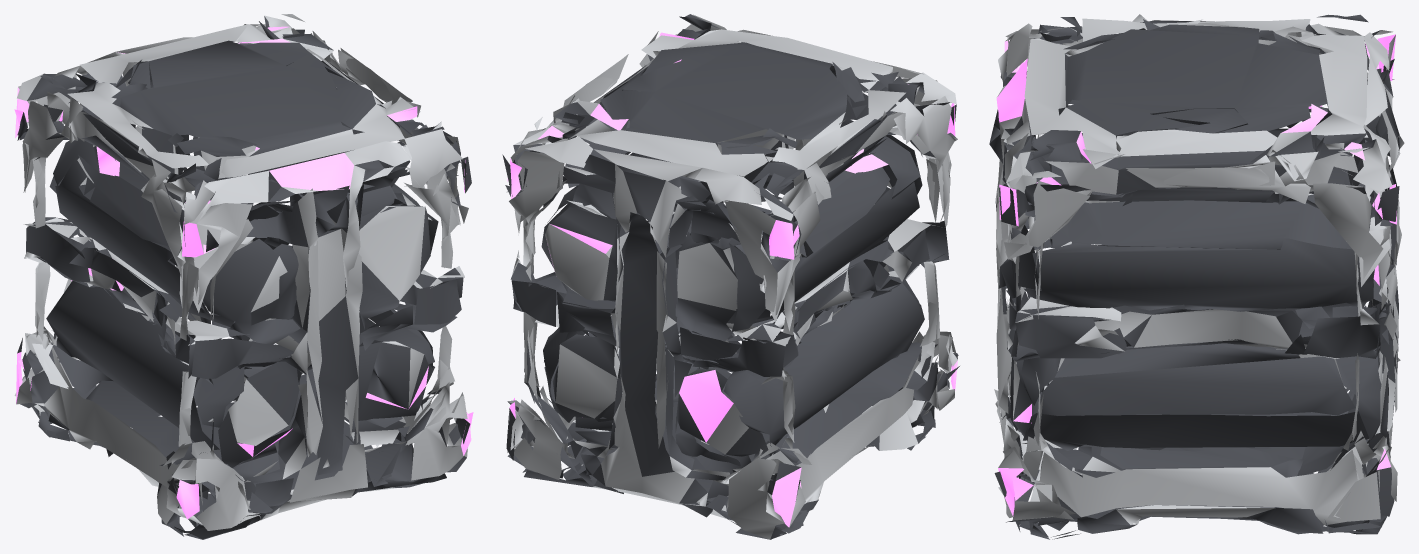
Rendered from SM_Battery_v1_slots.fbx.
The picture shows the model from 3 angles, left to right: view 1: azimuth 30°, elevation 25°; view 2: azimuth 150°, elevation 25°; view 3: azimuth 270°, elevation 25°; orthographic projection. The views are drawn at different scales.
Parts seen in each view (by area): view 1: SM_Battery; view 2: SM_Battery; view 3: SM_Battery.
Part boxes in pixels (box(x1,y1,x2,y2)): SM_Battery: box(14, 14, 473, 539); SM_Battery: box(502, 14, 959, 539); SM_Battery: box(989, 14, 1404, 539).
Size of the model in its own units: 0.8005 by 0.9499 by 0.8888.
